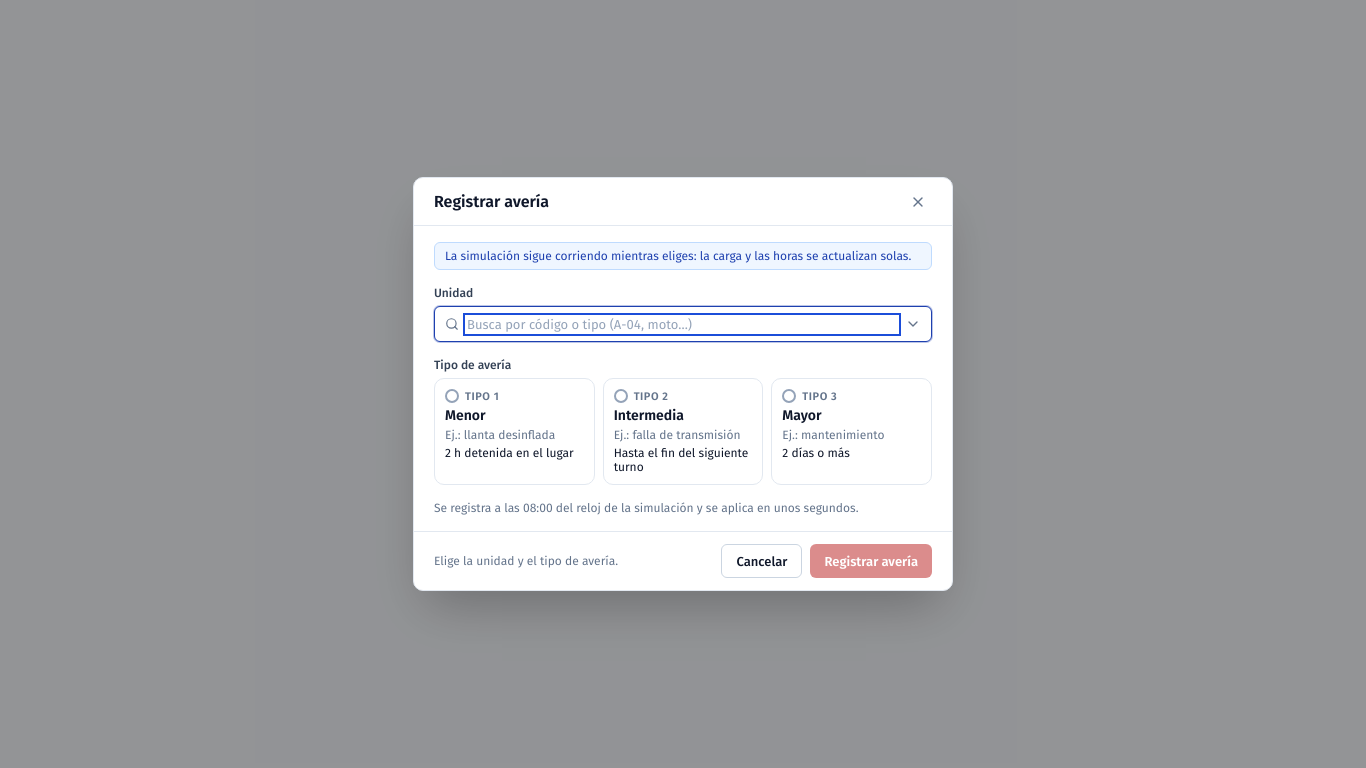
Test: DialogoRegistrarAveria › el botón se habilita solo con unidad y tipo elegidos
The image size is (1366, 768).
Type "A-01" into the dropdown named "Unidad". click: (682, 324)
box: [467,316,897,332]
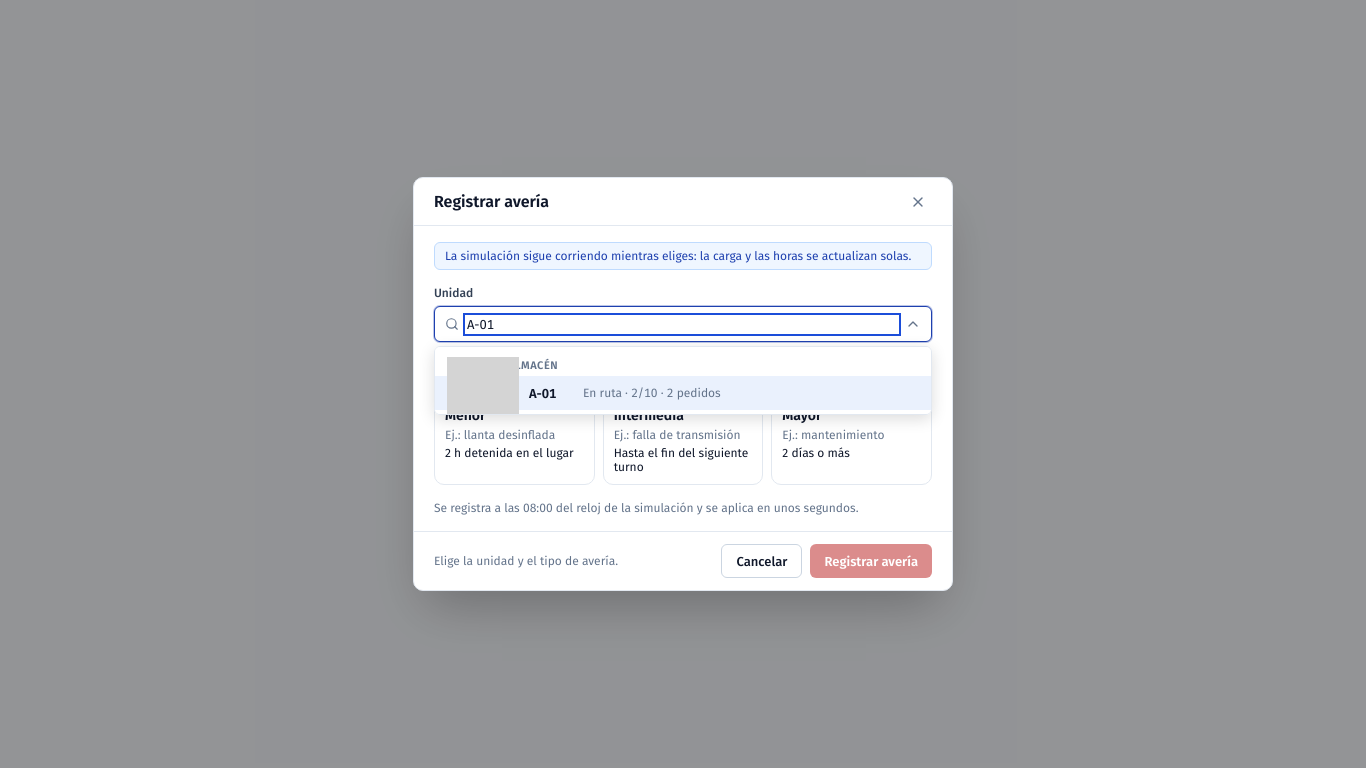
Click the option "A-01 En ruta · 2/10 · 2 pedidos". click: (683, 393)
box: [435,376,931,410]
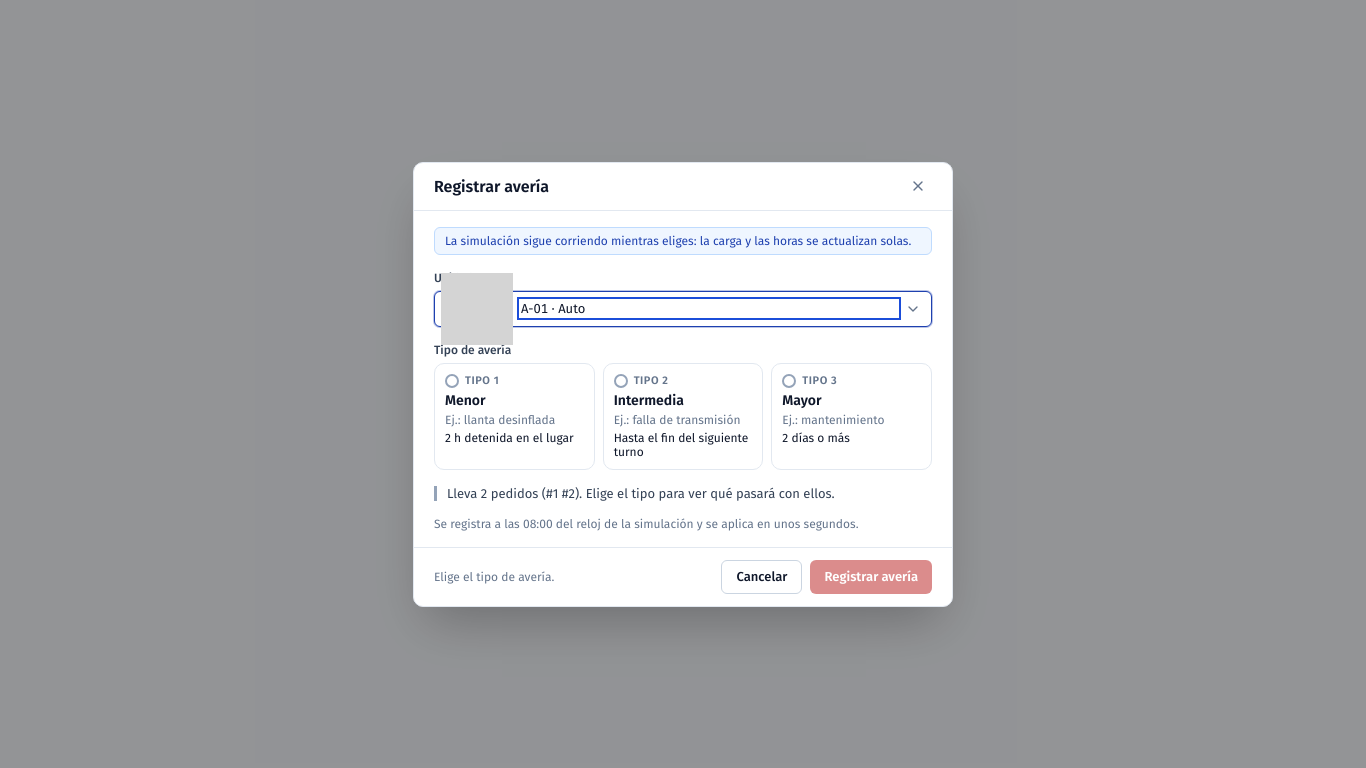
Expected: the button "Registrar avería" is disabled, [810,560,932,594]
Expected: the text "Elige el tipo de avería." is shown, [434,570,554,584]
Click the radio button showing "2". click: (683, 416)
box: [603,362,763,470]
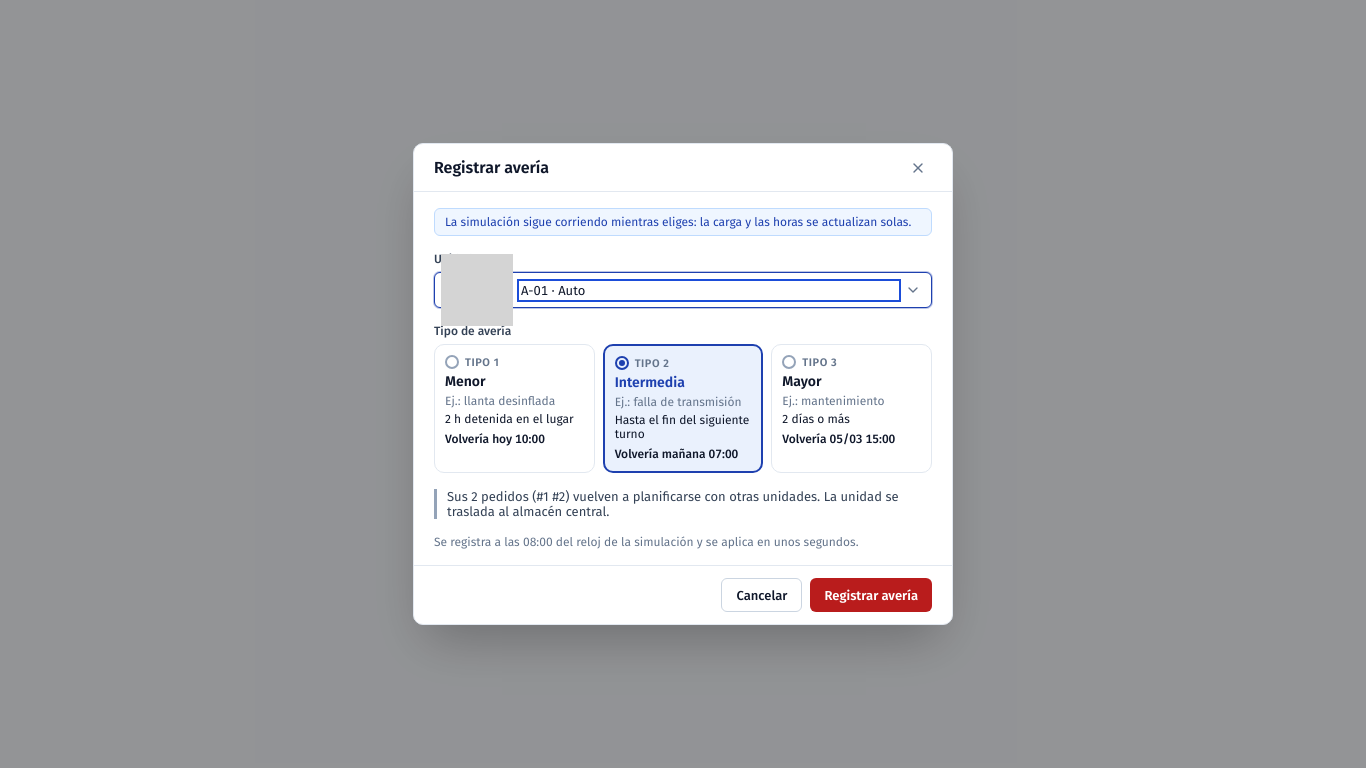
Expected: the button "Registrar avería" is enabled, [810,578,932,612]
